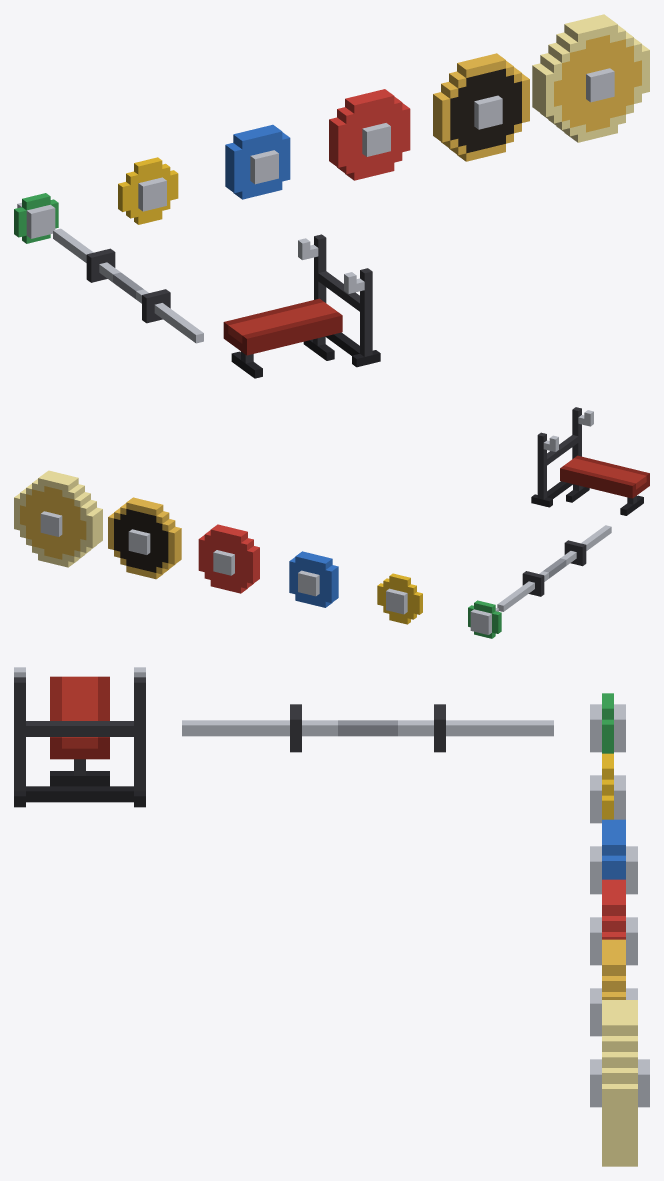
Rendered from Bench.fbx.
3 views of the same model, one above another, from view 1: azimuth 30°, elevation 25°; view 2: azimuth 150°, elevation 25°; view 3: azimuth 270°, elevation 25° (orthographic). The views are drawn at different scales.
Visible parts, largest first — view 1: Plate6, BenchPress, Plate5, Plate4, Plate3, Barbell, Plate2, Plate1; view 2: Plate6, BenchPress, Plate5, Plate4, Plate3, Barbell, Plate2, Plate1; view 3: BenchPress, Plate6, Barbell, Plate3, Plate4, Plate5, Plate2, Plate1.
Part boxes in pixels (x1=…): Plate6: x1=532, y1=14, x2=649, y2=142; BenchPress: x1=223, y1=234, x2=380, y2=378; Plate5: x1=433, y1=53, x2=529, y2=161; Plate4: x1=329, y1=89, x2=410, y2=180; Plate3: x1=225, y1=124, x2=290, y2=199; Barbell: x1=53, y1=228, x2=203, y2=343; Plate2: x1=118, y1=157, x2=178, y2=224; Plate1: x1=14, y1=193, x2=58, y2=243; Plate6: x1=14, y1=470, x2=102, y2=567; BenchPress: x1=531, y1=407, x2=649, y2=515; Plate5: x1=108, y1=497, x2=181, y2=579; Plate4: x1=198, y1=524, x2=259, y2=593; Plate3: x1=289, y1=551, x2=338, y2=607; Barbell: x1=497, y1=525, x2=611, y2=611; Plate2: x1=377, y1=573, x2=422, y2=624; Plate1: x1=468, y1=600, x2=501, y2=638; BenchPress: x1=14, y1=667, x2=145, y2=807; Plate6: x1=590, y1=1000, x2=649, y2=1166; Barbell: x1=182, y1=704, x2=553, y2=752; Plate3: x1=590, y1=819, x2=637, y2=894; Plate4: x1=590, y1=879, x2=637, y2=965; Plate5: x1=590, y1=939, x2=637, y2=1036; Plate2: x1=590, y1=753, x2=625, y2=823; Plate1: x1=590, y1=693, x2=625, y2=753.
Size of the model in its own units: 39.5 by 8.5 by 26.5.
